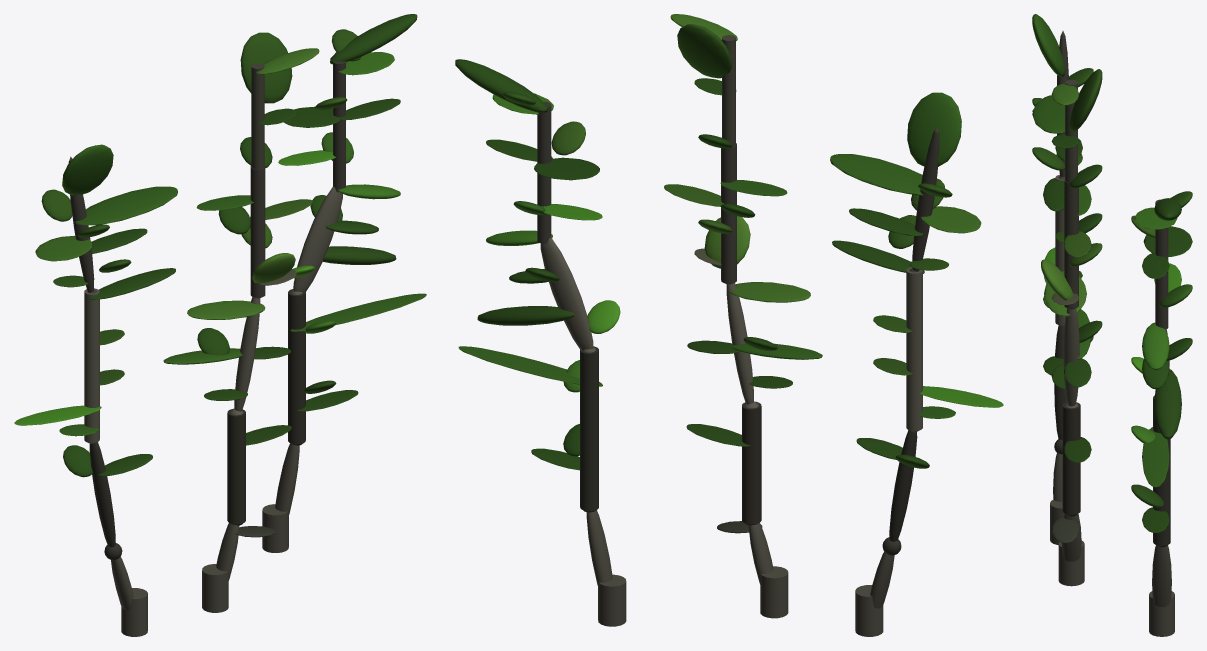
File: CMU3DRMCBushh3.glb
3 renders of one model, left to right at view 1: azimuth 30°, elevation 25°; view 2: azimuth 150°, elevation 25°; view 3: azimuth 270°, elevation 25°, orthographic. The views are drawn at different scales.
Visible parts, largest first — view 1: visible stem 2 section 1, visible stem 0 section 2, source leaf patch 4, source leaf patch 1, visible stem 1 section 1, visible stem 2 section 2, source leaf patch 0, visible stem 1 section 3, source leaf patch 3, visible stem 2 section 3, visible stem 1 section 4, visible stem 0 section 1 (+32 smaller); view 2: visible stem 2 section 1, source leaf patch 0, visible stem 0 section 2, visible stem 2 section 2, visible stem 1 section 1, source leaf patch 4, source leaf patch 1, visible stem 1 section 3, visible stem 2 section 3, source leaf patch 3, visible stem 0 section 3, visible stem 1 section 2 (+22 smaller); view 3: visible stem 1 section 1, source leaf patch 35, visible stem 1 section 3, source leaf patch 40, visible stem 2 section 0, visible stem 1 section 2, visible stem 2 section 3, source leaf patch 1, source leaf patch 0, source leaf patch 24, source leaf patch 4, visible stem 2 section 1 (+39 smaller).
Part boxes in pixels (box(x1,y1,x2,y2)): visible stem 2 section 1: box(288, 289, 305, 444); visible stem 0 section 2: box(84, 288, 99, 442); source leaf patch 4: box(75, 186, 177, 225); source leaf patch 1: box(240, 32, 292, 103); visible stem 1 section 1: box(227, 408, 245, 524); visible stem 2 section 2: box(293, 186, 342, 292); source leaf patch 0: box(62, 144, 113, 195); visible stem 1 section 3: box(250, 166, 265, 297); source leaf patch 3: box(330, 14, 417, 64); visible stem 2 section 3: box(333, 61, 345, 192); visible stem 1 section 4: box(251, 63, 264, 169); visible stem 0 section 1: box(89, 442, 115, 547); visible stem 2 section 1: box(580, 346, 598, 511); source leaf patch 0: box(907, 92, 961, 166); visible stem 0 section 2: box(906, 267, 922, 430); visible stem 2 section 2: box(540, 237, 593, 349); visible stem 1 section 1: box(742, 401, 761, 524); source leaf patch 4: box(830, 154, 937, 195); source leaf patch 1: box(677, 24, 731, 78); visible stem 1 section 3: box(721, 143, 736, 283); visible stem 2 section 3: box(537, 101, 551, 243); source leaf patch 3: box(455, 59, 547, 112); visible stem 0 section 3: box(912, 127, 939, 271); visible stem 1 section 2: box(726, 283, 753, 404); visible stem 1 section 1: box(1062, 402, 1080, 514); source leaf patch 35: box(1154, 369, 1181, 439); visible stem 1 section 3: box(1064, 179, 1078, 308); source leaf patch 40: box(1142, 427, 1169, 487); visible stem 2 section 0: box(1152, 545, 1171, 606); visible stem 1 section 2: box(1063, 308, 1079, 406); visible stem 2 section 3: box(1155, 199, 1168, 329); source leaf patch 1: box(1069, 69, 1102, 132); source leaf patch 0: box(1032, 14, 1065, 77); source leaf patch 24: box(1142, 322, 1169, 370); source leaf patch 4: box(1032, 95, 1064, 133); visible stem 2 section 1: box(1153, 395, 1170, 545).
Bounding box in the file's own units: 0.6789 × 0.7711 × 0.2087.
